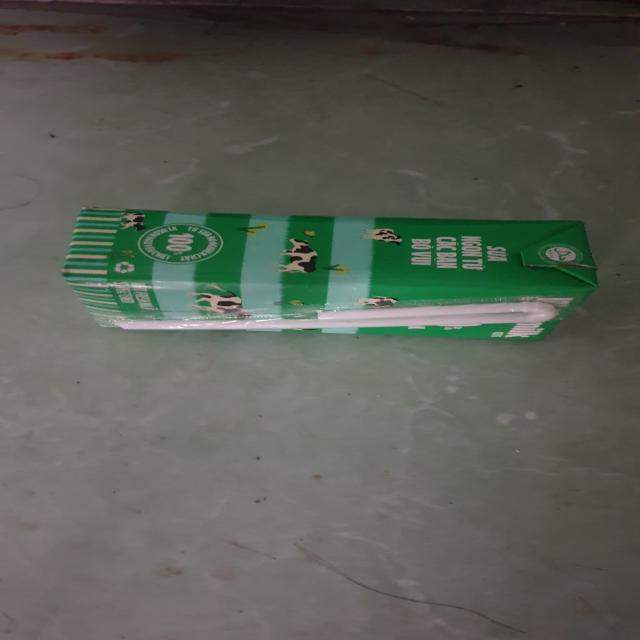Vina: (55, 203, 597, 342)
